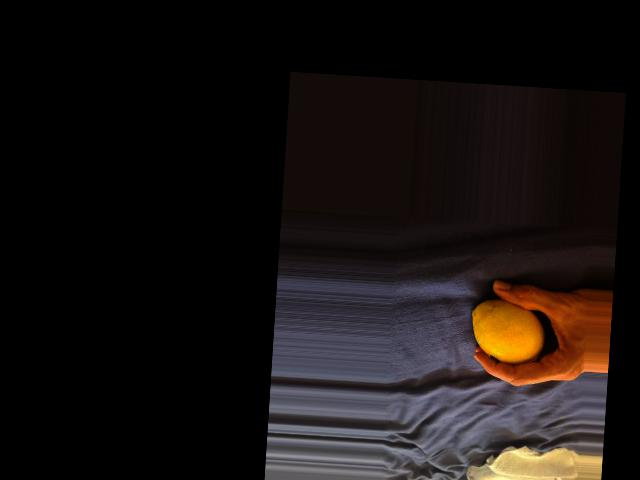lemon: (468, 299, 546, 371)
